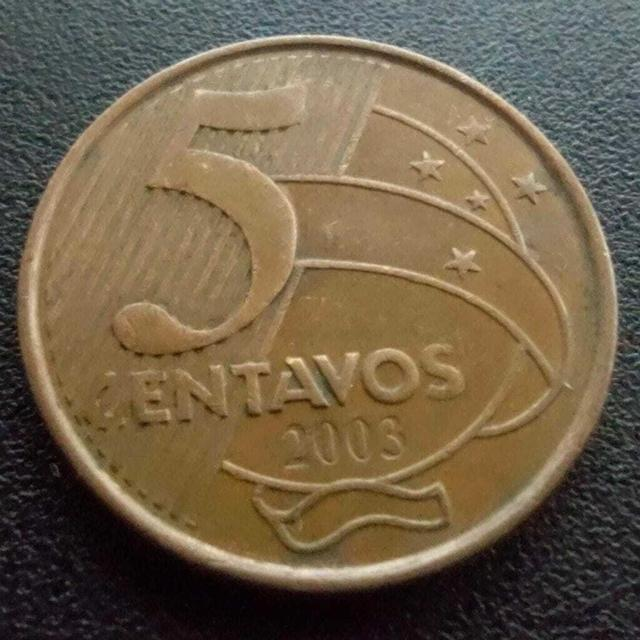5 cent: (19, 32, 618, 590)
